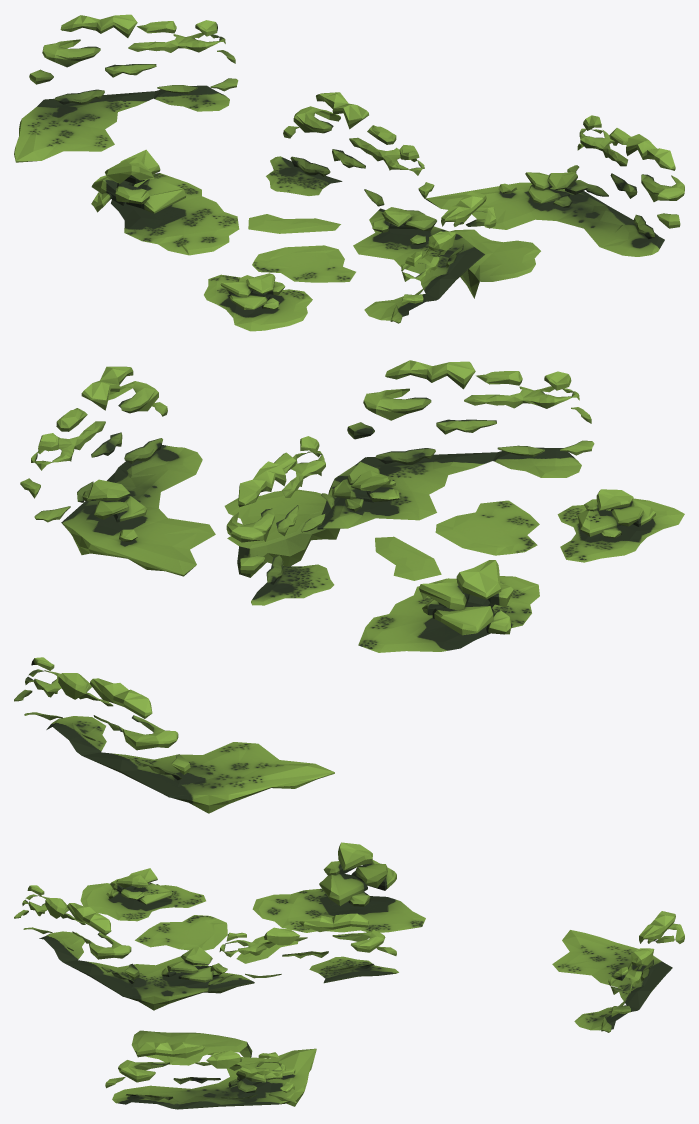
Rendered from Plant_01.FBX.
The picture shows the model from 3 angles, top to bottom: view 1: azimuth 30°, elevation 25°; view 2: azimuth 150°, elevation 25°; view 3: azimuth 270°, elevation 25°; orthographic projection. The views are drawn at different scales.
Visible parts, largest first — view 1: Plant_01; view 2: Plant_01; view 3: Plant_01.
Part boxes in pixels (x1=…): Plant_01: x1=14, y1=14, x2=684, y2=331; Plant_01: x1=14, y1=360, x2=684, y2=813; Plant_01: x1=14, y1=842, x2=684, y2=1109.
Bounding box in the file's own units: 37.36 × 10.42 × 51.5.
